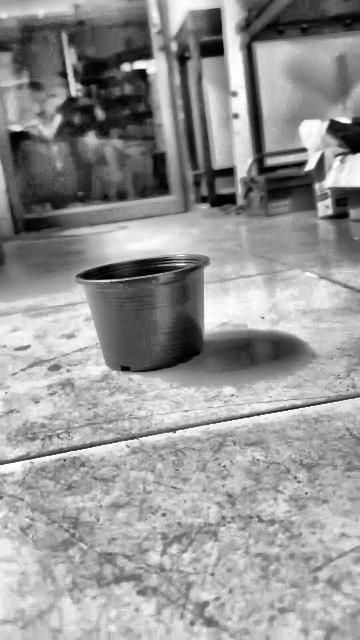pot: (77, 255, 209, 371)
